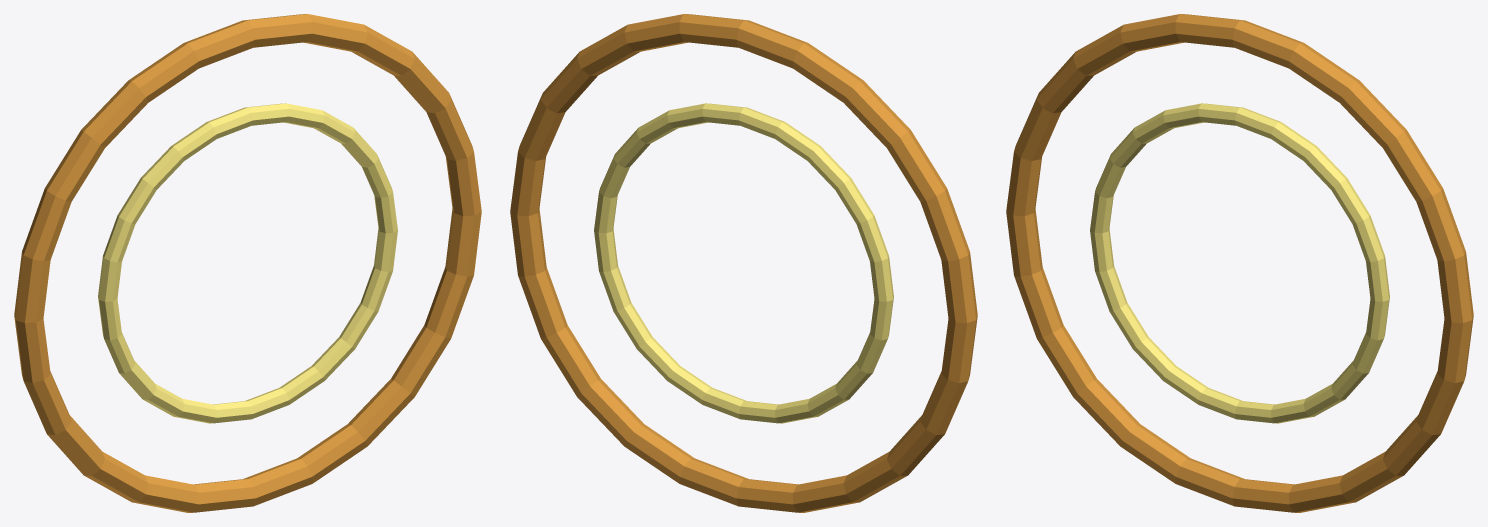
Rendered from boss-rally-aura.glb.
3 renders of one model, left to right at view 1: azimuth 30°, elevation 25°; view 2: azimuth 150°, elevation 25°; view 3: azimuth 330°, elevation 25°, orthographic.
Parts seen in each view (by area): view 1: rally-ring-outer, rally-ring-inner; view 2: rally-ring-outer, rally-ring-inner; view 3: rally-ring-outer, rally-ring-inner.
Boxes of the visible parts, bbox=[...] form: rally-ring-outer: bbox=[14, 14, 481, 512]; rally-ring-inner: bbox=[98, 103, 397, 423]; rally-ring-outer: bbox=[510, 14, 977, 512]; rally-ring-inner: bbox=[594, 103, 893, 423]; rally-ring-outer: bbox=[1006, 14, 1473, 512]; rally-ring-inner: bbox=[1090, 103, 1389, 423].
Size of the model in its own units: 1.06 by 1.06 by 0.06.
